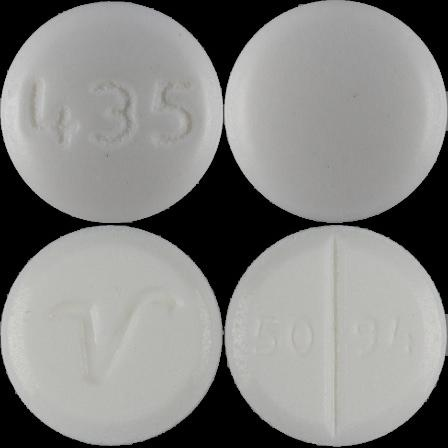60687-121: (0, 0, 224, 224)
